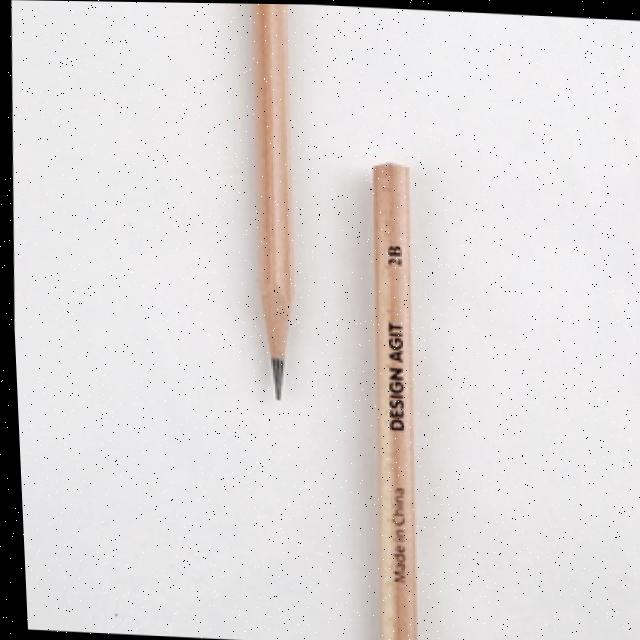pencil: (344, 153, 434, 640), (233, 3, 312, 412)
